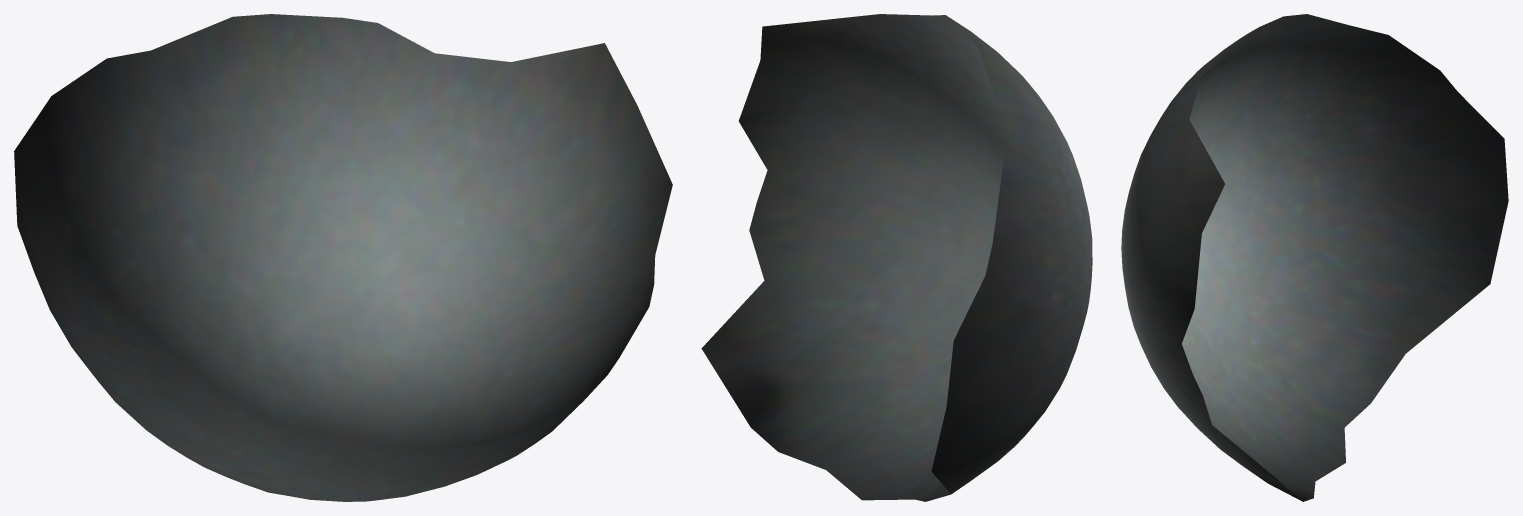
File: Sphere_distfromfocus_p20_focuc_210.000001.obj
The picture shows the model from 3 angles, left to right: view 1: azimuth 30°, elevation 25°; view 2: azimuth 150°, elevation 25°; view 3: azimuth 270°, elevation 25°; orthographic projection. The views are drawn at different scales.
Bounding box in the file's own units: 68.34 × 70.69 × 60.47.
Materials: 1 (1 with a texture image).
